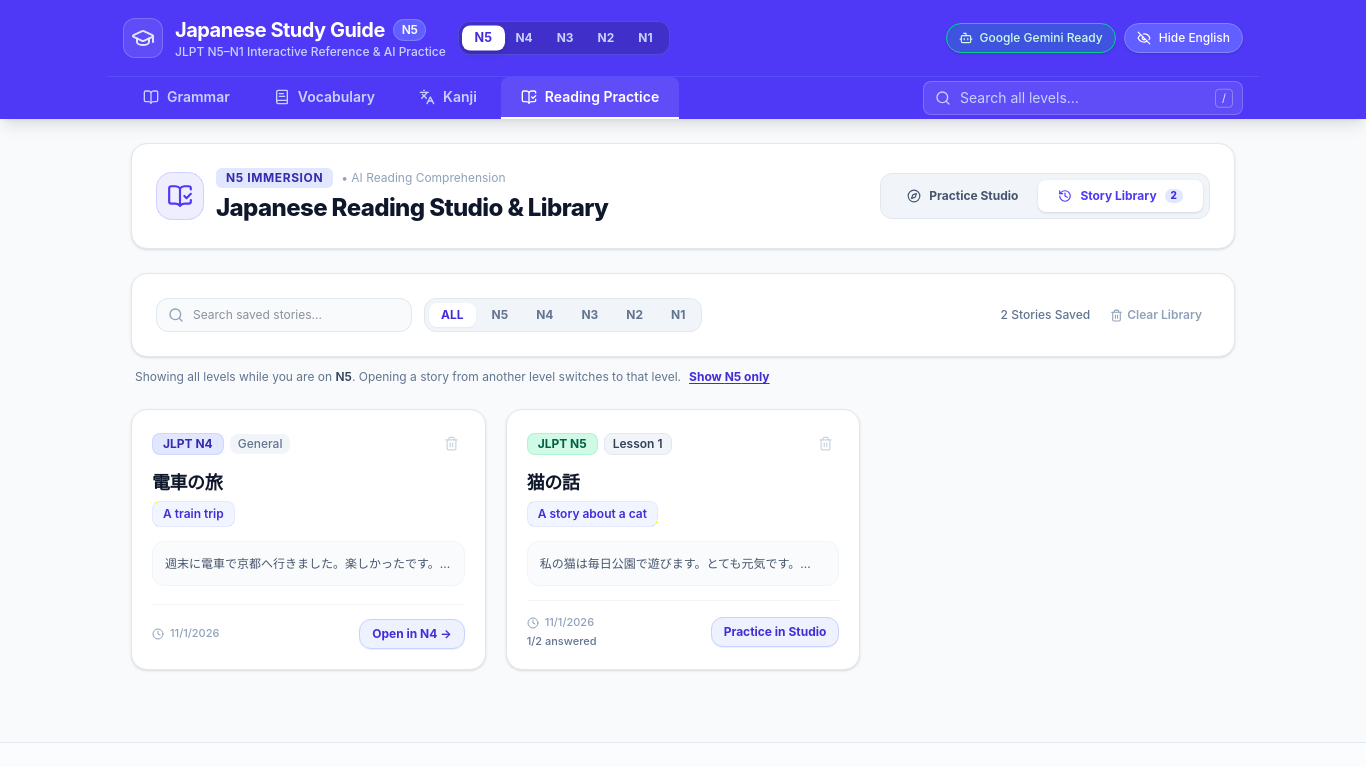
it: Story Library flow › deletes an entry
Check: the heading "電車の旅" is shown, box left=152, top=471, right=222, bottom=496
Click the button titled "Delete Story". click: point(451, 444)
box: left=438, top=430, right=465, bottom=457
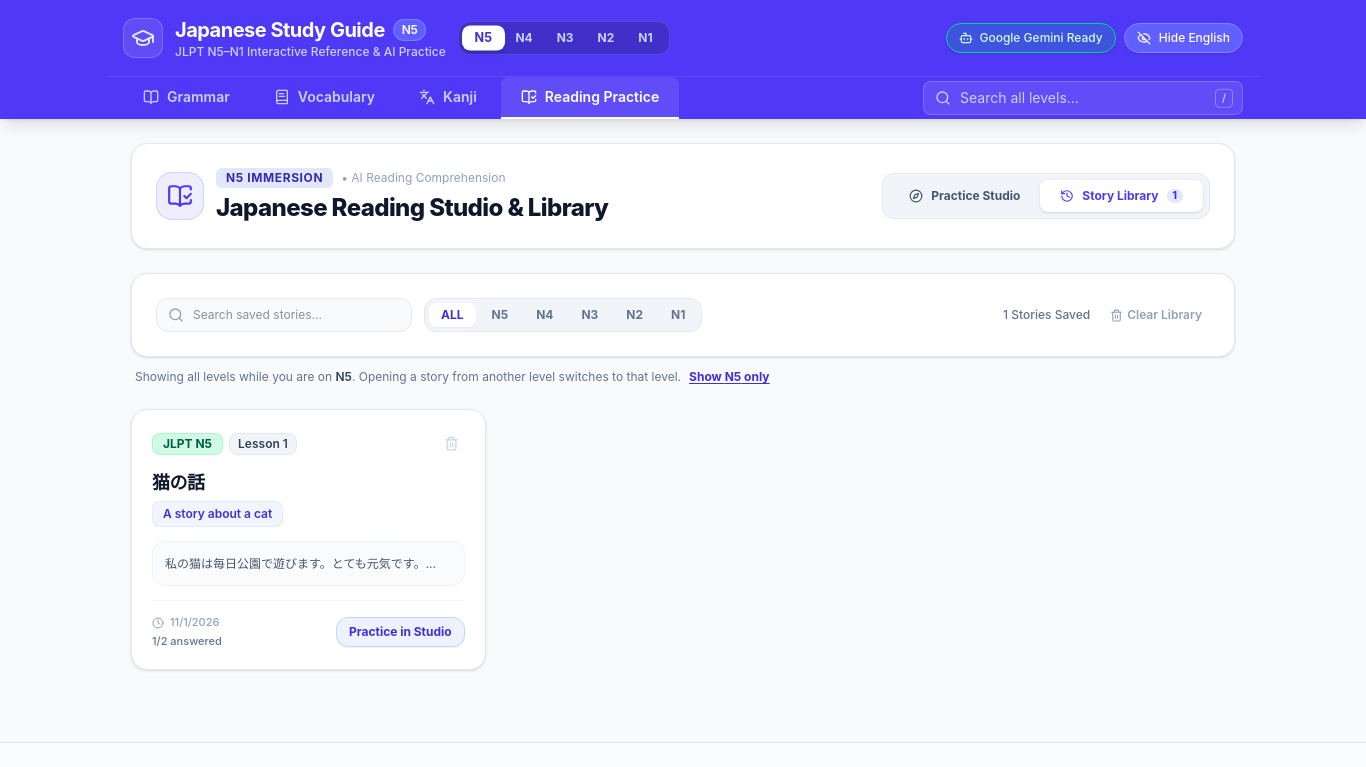
Check: the button "電車の旅" is gone
Check: the text "1 Stories Saved" is shown, box left=1003, top=307, right=1090, bottom=323
